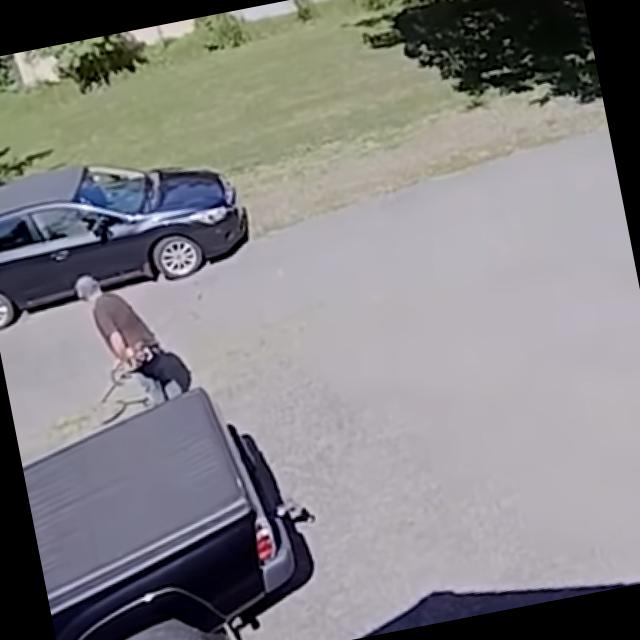person: (73, 258, 197, 415)
